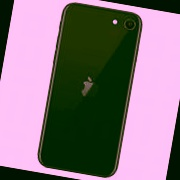iphone: (49, 6, 132, 174)
